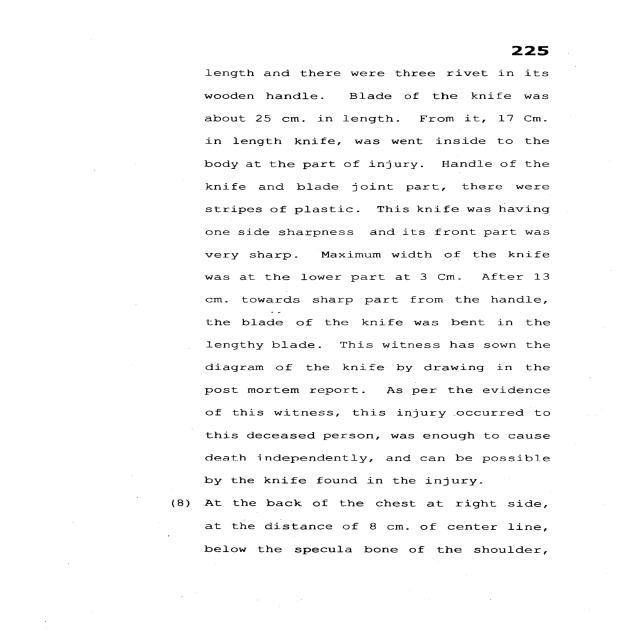page-number: (426, 0, 636, 61)
